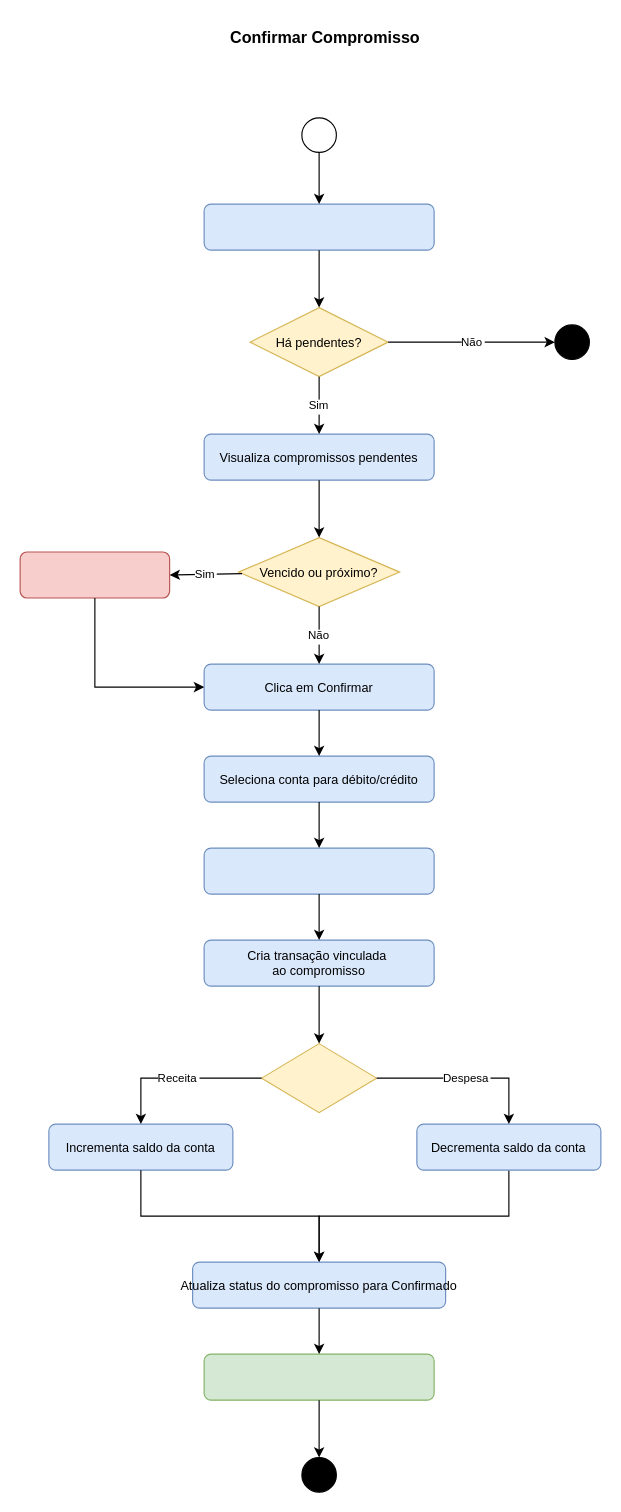
Image size: 621x1512. Some labels were removed from this diagram. Here are the shapes that lost their labels. From the top down, the centre of each, then its label:
At point 318,226: "Acessa Dashboard ou Compromissos".
At point 94,574: "Exibe alerta visual".
At point 318,870: "Confirma operação".
At point 318,1077: "Tipo?".
At point 318,1376: "Exibe movimentação na listagem".
